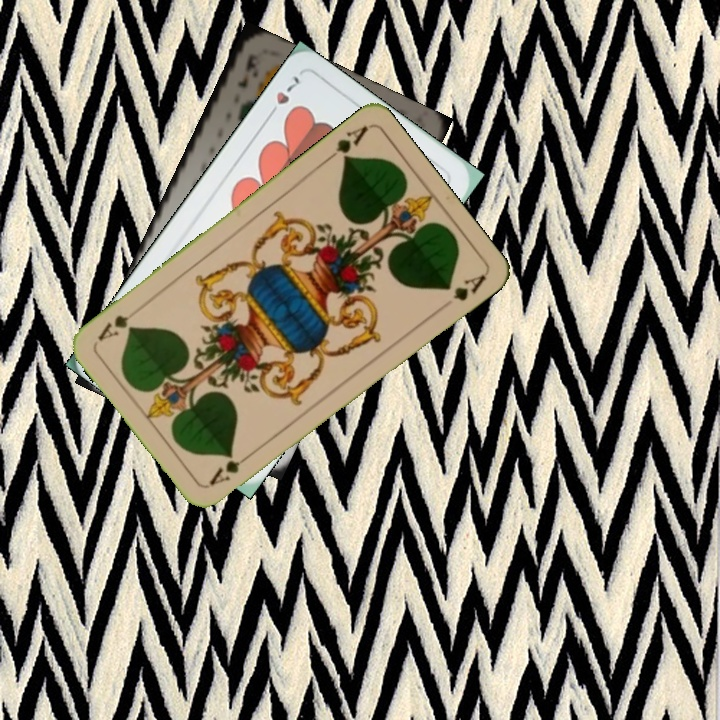EK: (233, 50, 264, 91)
GA: (320, 121, 371, 166), (205, 447, 256, 489)
H7: (262, 71, 303, 122)
